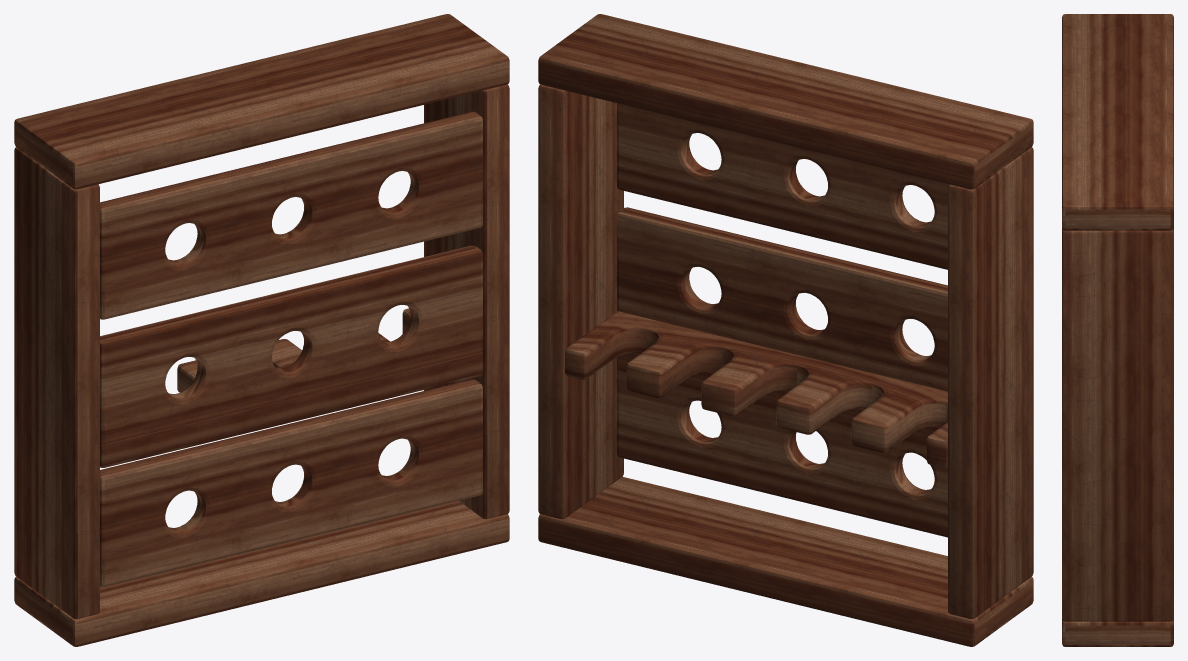
File: shkaff_wine_niz_.FBX
The picture shows the model from 3 angles, left to right: view 1: azimuth 30°, elevation 25°; view 2: azimuth 150°, elevation 25°; view 3: azimuth 270°, elevation 25°; orthographic projection. The views are drawn at different scales.
Visible parts, largest first — view 1: shkaff_wine_niz_; view 2: shkaff_wine_niz_; view 3: shkaff_wine_niz_.
Part boxes in pixels (x1,y1,x2,y2): shkaff_wine_niz_: (14, 14, 509, 646); shkaff_wine_niz_: (538, 14, 1033, 646); shkaff_wine_niz_: (1062, 14, 1173, 646).
Bounding box in the file's own units: 409 × 435 × 100.
Materials: 1 (1 with a texture image).
